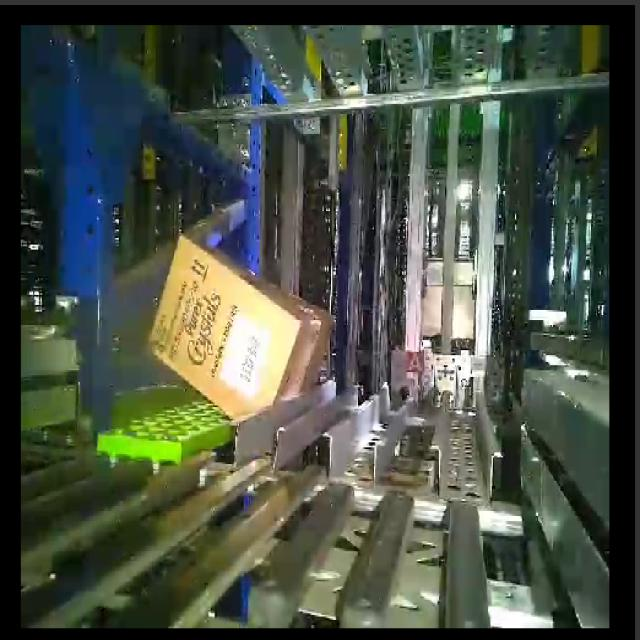box: (109, 229, 336, 445)
